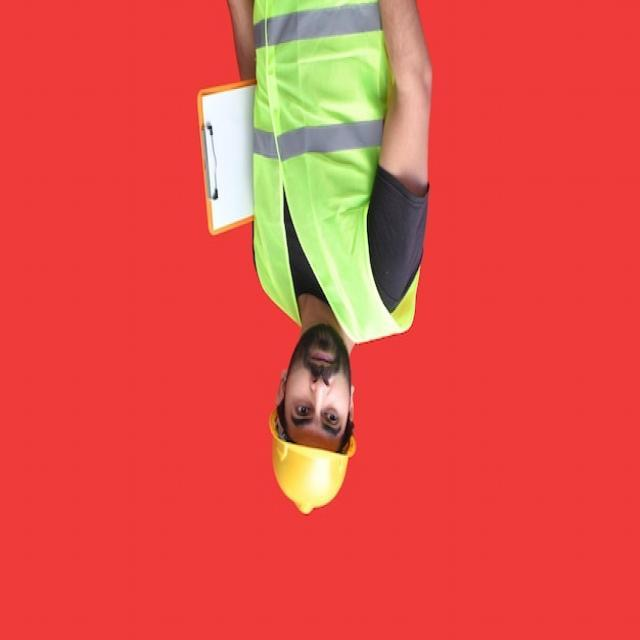safetyhelmet: (260, 360, 372, 522)
